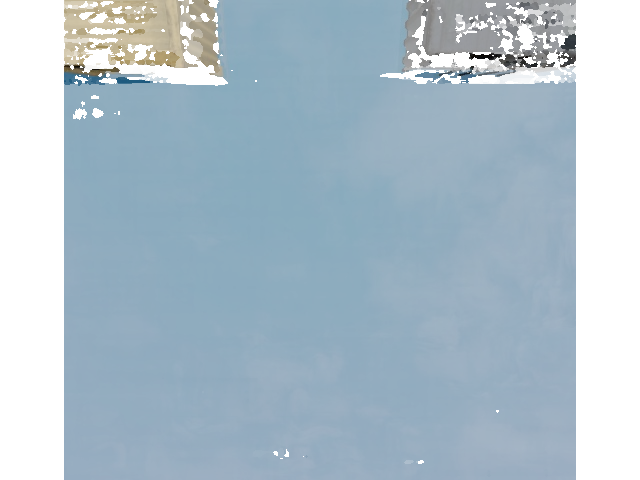container1: (394, 0, 617, 79)
container3: (0, 0, 240, 85)
